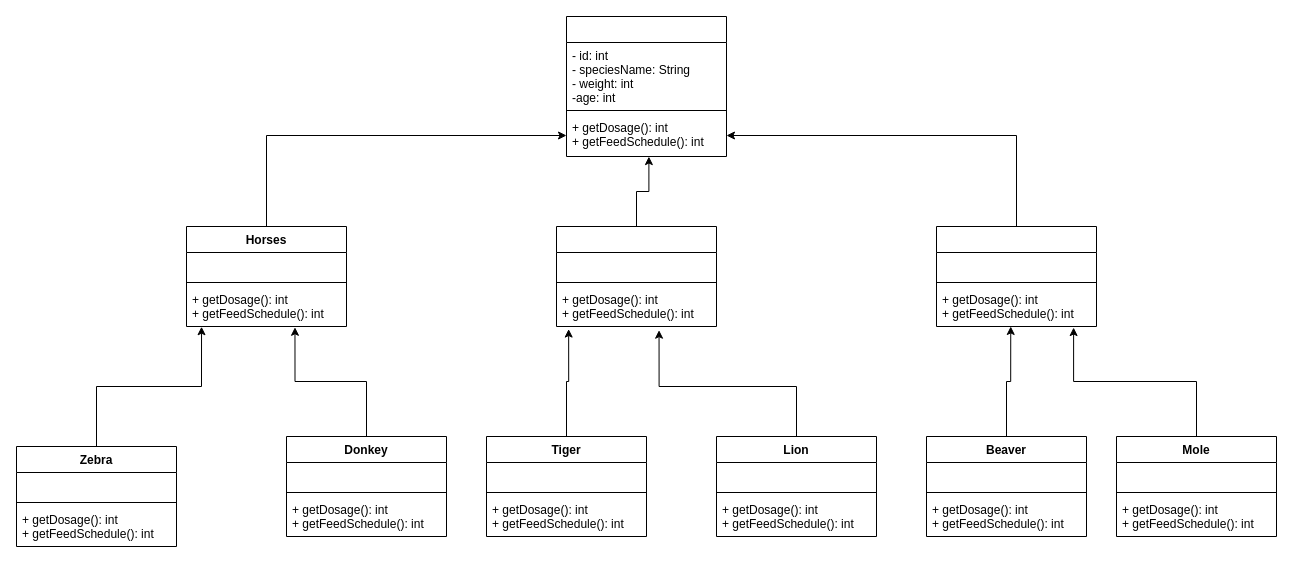
Image size: 1293x563. Some labels were removed from this diagram. The box of each missing label's shape, as (x1, y1, x2, y2) in pixels:
Animals: (566, 16, 726, 156)
Cats: (556, 226, 716, 326)
Rodents: (936, 226, 1096, 326)
